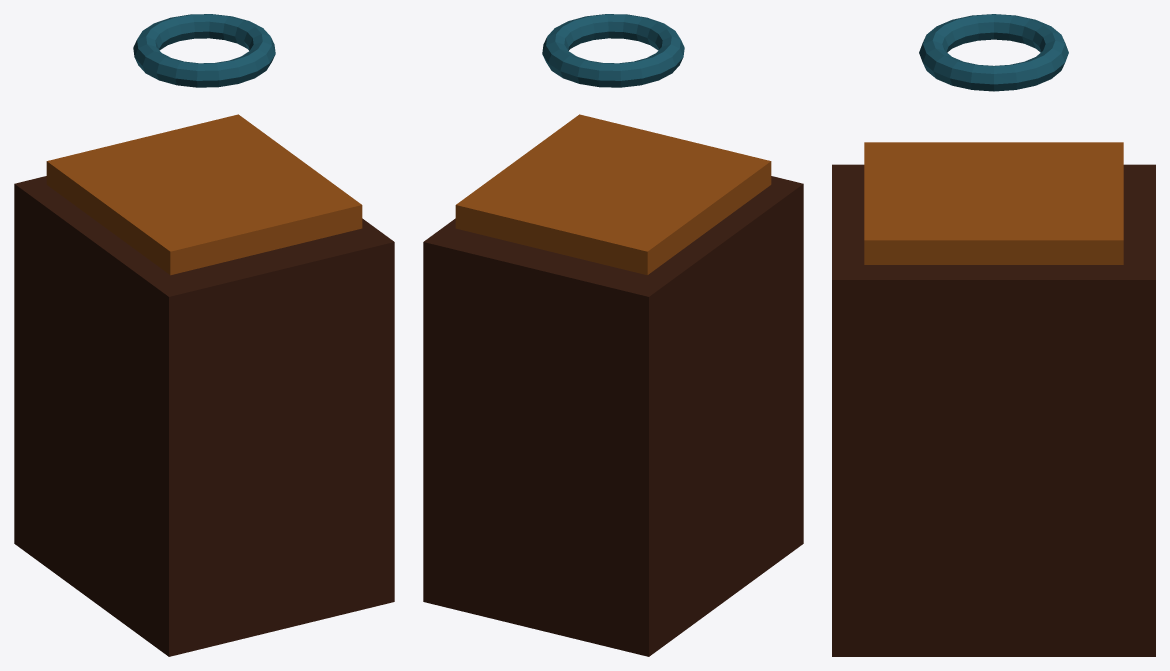
File: stool.obj
The picture shows the model from 3 angles, left to right: view 1: azimuth 30°, elevation 25°; view 2: azimuth 150°, elevation 25°; view 3: azimuth 270°, elevation 25°; orthographic projection. The views are drawn at different scales.
Visible parts, largest first — view 1: dark_wood, brass, glass; view 2: dark_wood, brass, glass; view 3: dark_wood, brass, glass.
Part boxes in pixels (x1,y1,x2,y2): dark_wood: (14, 176, 394, 656); brass: (46, 114, 362, 275); glass: (133, 14, 275, 87); dark_wood: (423, 176, 803, 656); brass: (455, 114, 771, 275); glass: (542, 14, 684, 87); dark_wood: (832, 164, 1155, 656); brass: (864, 142, 1123, 264); glass: (919, 14, 1068, 91).
Size of the model in its own units: 0.8 by 1.81 by 0.95.
